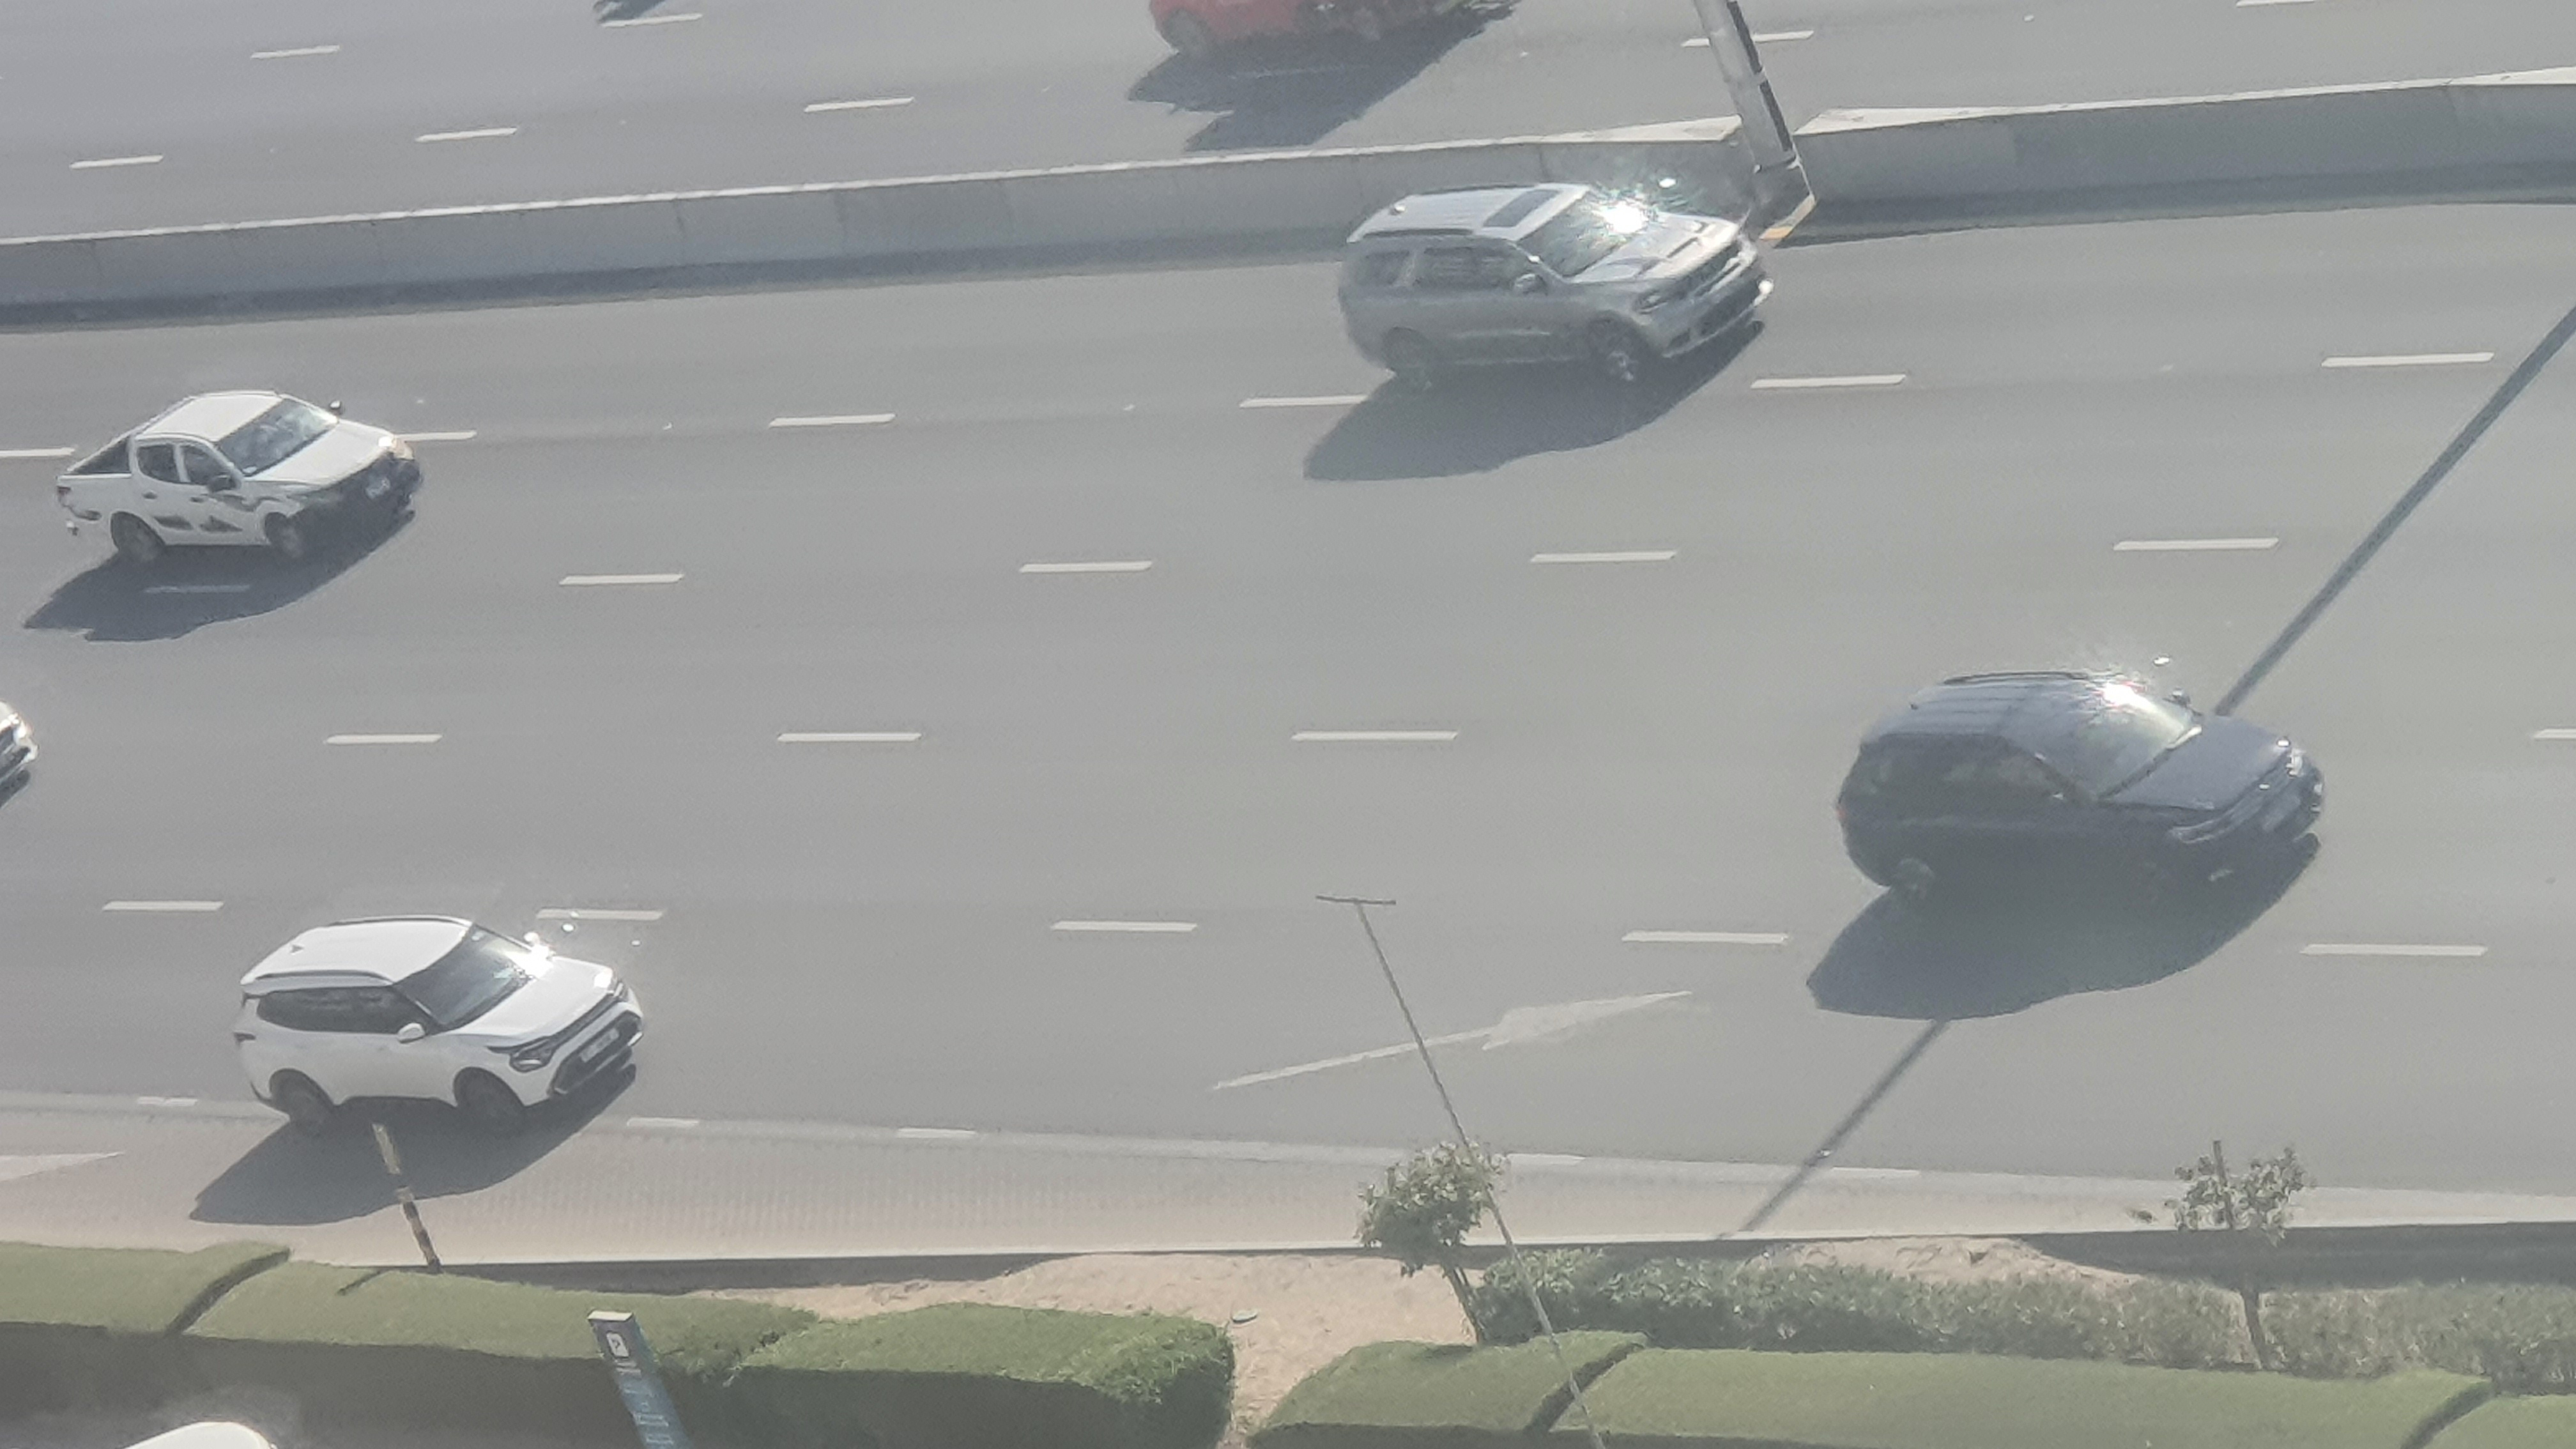NotSunroof: (1836, 660, 2332, 920), (223, 920, 646, 1136)
Sunroof: (1332, 182, 1778, 412)
